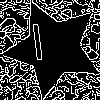I: (28, 23, 48, 70)
